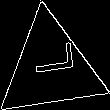L_W: (25, 49, 76, 87)
